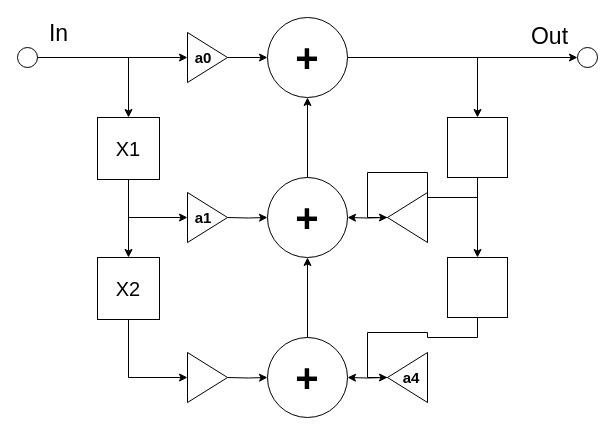
Some shapes in this 615 by 435 pixel diagram are drawn without their labels. The shapes that lost their labels are listed below. From the top down, each one's centre as x and y in pixels, then its label:
point 477,147: Y1
point 407,217: a3
point 477,287: Y2
point 207,377: a2
